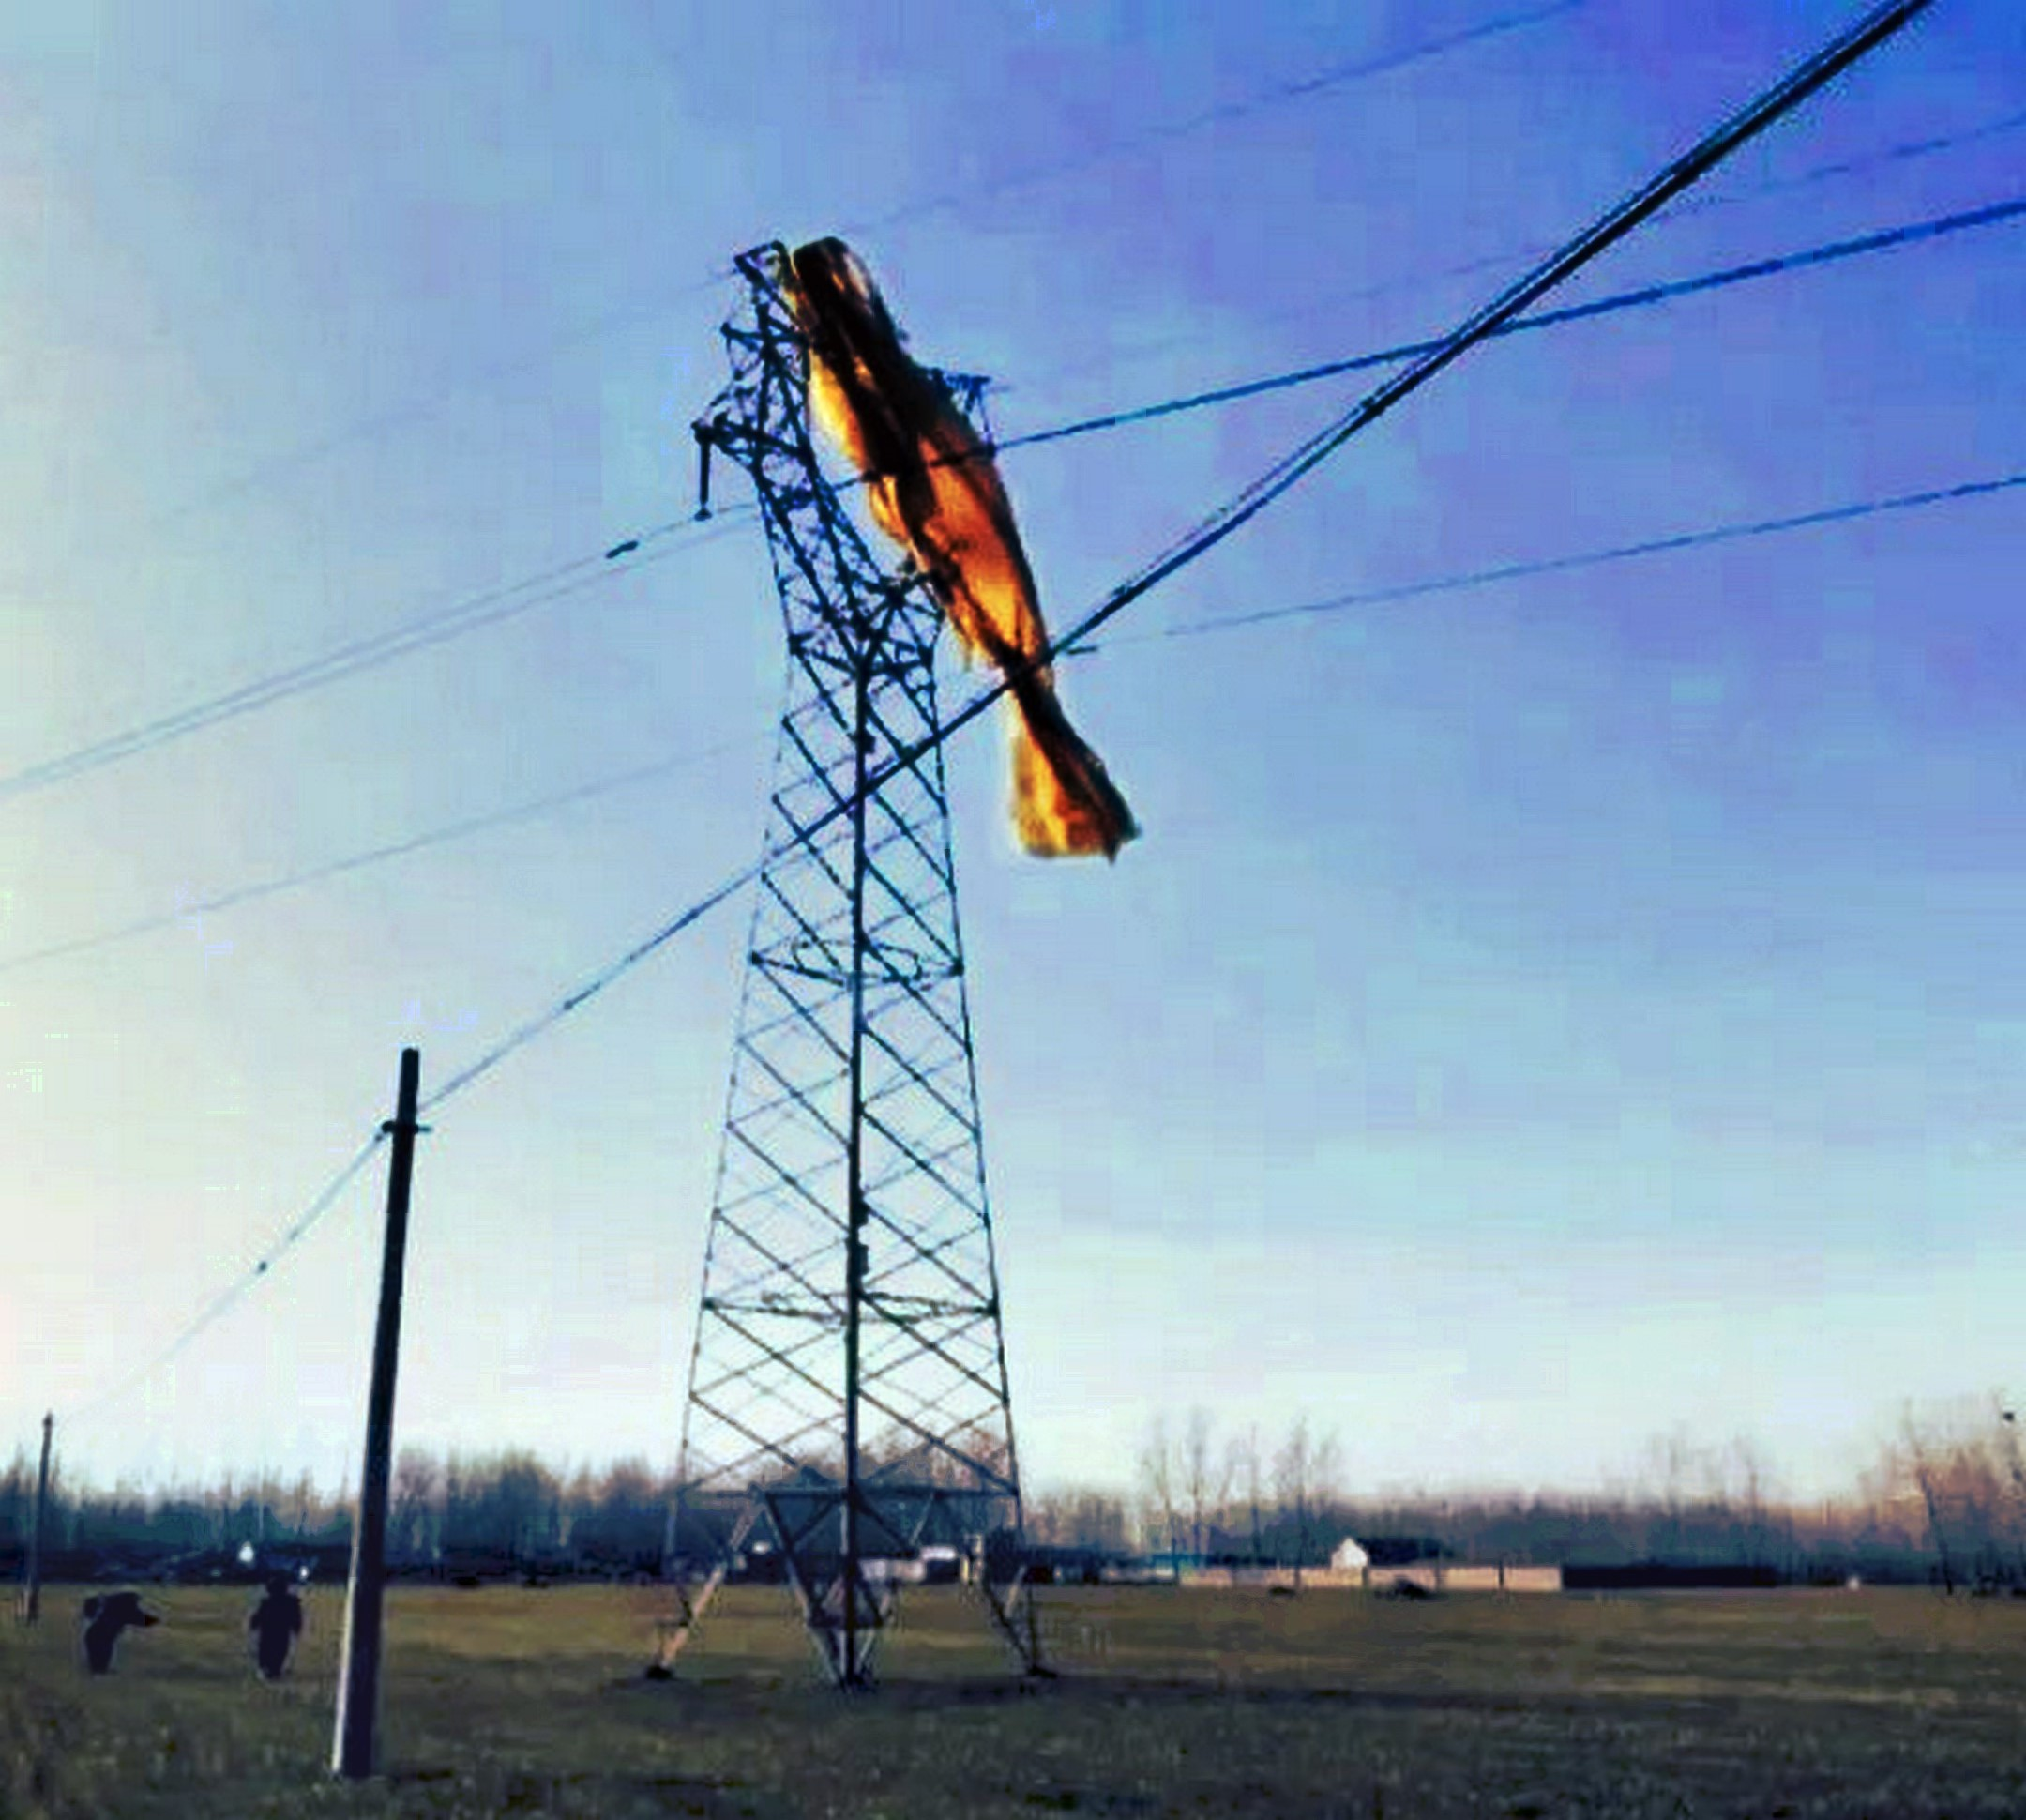wire foreign body: (772, 228, 1159, 854)
